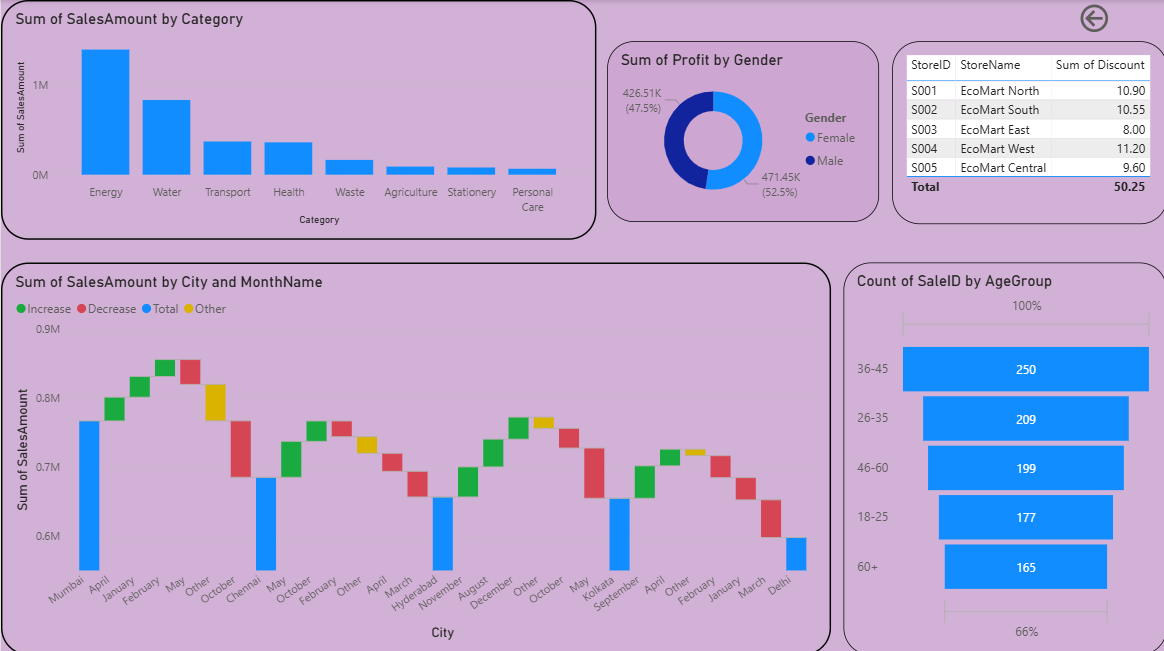

This screenshot's page, from the dashboard's own definition file:
{"tool":"powerbi","page":{"name":"Page 2","canvas":[1280,720],"ordinal":1},"visuals":[{"type":"columnChart","fields":{"Category":["DimProduct.Category"],"Y":["Sum(FactSales.SalesAmount)"]},"box":[27.1,0,652.9,262.9],"z":0},{"type":"donutChart","fields":{"Y":["Sum(FactSales.Profit)"],"Category":["DimCustomer.Gender"]},"box":[680,20,298.6,198.6],"z":1000},{"type":"tableEx","fields":{"Values":["DimStore.StoreID","DimStore.StoreName","Sum(FactSales.Discount)"]},"box":[978.6,0,301.4,201.4],"z":2000},{"type":"waterfallChart","fields":{"Category":["DimStore.City"],"Y":["Sum(FactSales.SalesAmount)"],"Breakdown":["DimDate.MonthName"]},"box":[27.1,262.9,665.7,315.7],"z":3000},{"type":"funnel","fields":{"Category":["DimCustomer.AgeGroup","DimCustomer.Gender"],"Y":["CountNonNull(FactSales.SaleID)"]},"box":[925.7,198.6,354.3,521.4],"z":4000},{"type":"actionButton","box":[0,20,100,40],"z":5000},{"type":"slicer","fields":{"Values":["DimCustomer.State"]},"box":[692.9,274.3,232.9,304.3],"z":6000},{"type":"textbox","box":[27.1,578.6,898.6,141.4],"z":6001}]}

Visuals, with their boxes in screenshot pixels (x1, y1, x2, y2), scaled from the page's 1280x720 canvas onto the 1164x651 screenshot:
columnChart - DimProduct.Category x Sum(FactSales.SalesAmount): <box>25,0,618,238</box>
donutChart - Sum(FactSales.Profit) x DimCustomer.Gender: <box>618,18,890,198</box>
tableEx - DimStore.StoreID x DimStore.StoreName: <box>890,0,1163,182</box>
waterfallChart - DimStore.City x Sum(FactSales.SalesAmount): <box>25,238,630,523</box>
funnel - DimCustomer.AgeGroup x DimCustomer.Gender: <box>842,180,1163,650</box>
actionButton: <box>0,18,91,54</box>
slicer - DimCustomer.State: <box>630,248,842,523</box>
textbox: <box>25,523,842,650</box>
